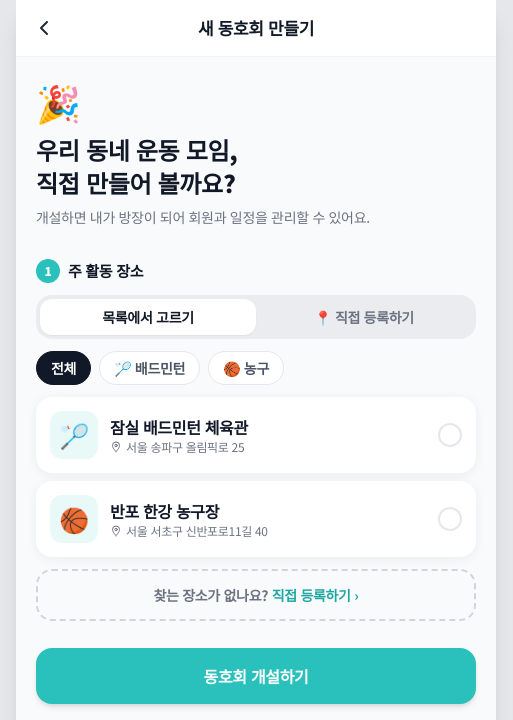
Test case: 동호회 만들기 › 서버가 거절하면(중복 이름 등) 안내 문구를 보여준다
Click the radio button labelled "🏀 반포 한강 농구장 서울 서초구 신반포로11길 40": (256, 519) 36,481 -> 476,557
(page scrolled)
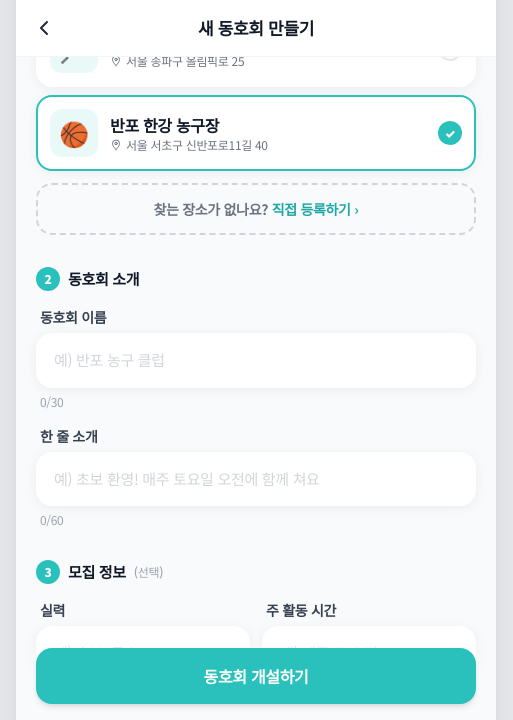
In the field labelled "동호회 이름": (256, 360) 36,333 -> 476,388, type "반포 3on3"
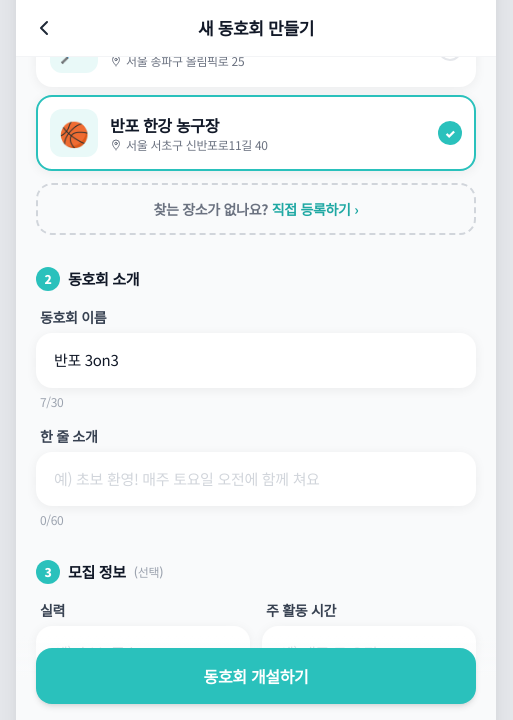
In the field labelled "한 줄 소개": (256, 479) 36,452 -> 476,506, type "한강 농구"
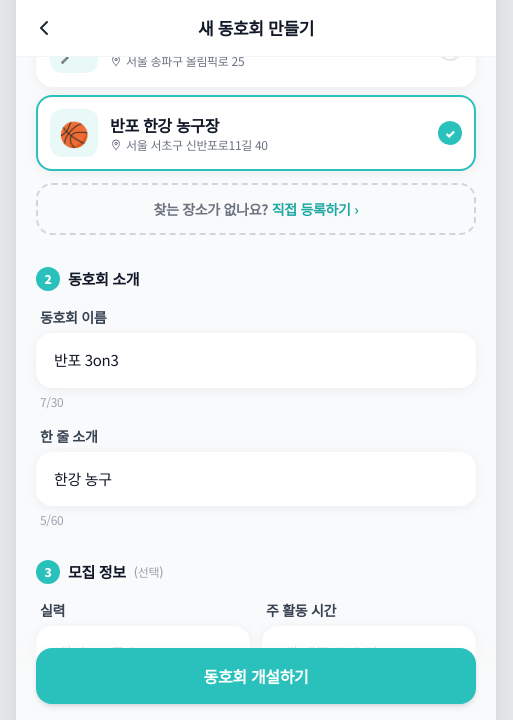
Click the button "동호회 개설하기": (256, 676) 36,648 -> 476,704
(page scrolled)
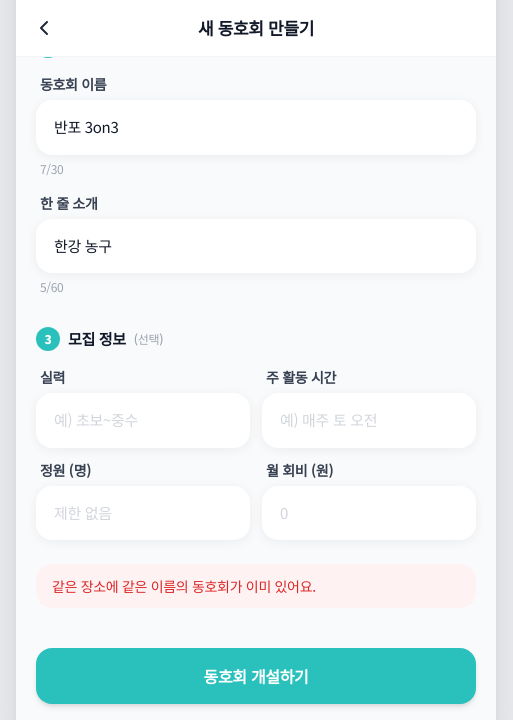
Now the message reads "같은 장소에 같은 이름의 동호회가 이미 있어요.", box 52,576 -> 316,596
